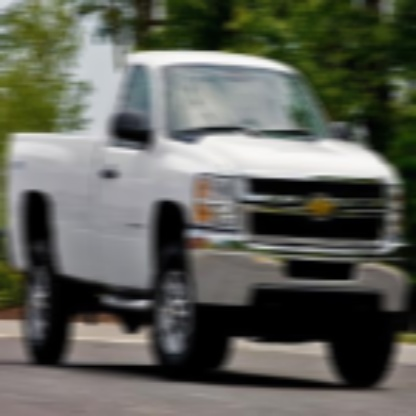Vehicle: (6, 51, 410, 395)
